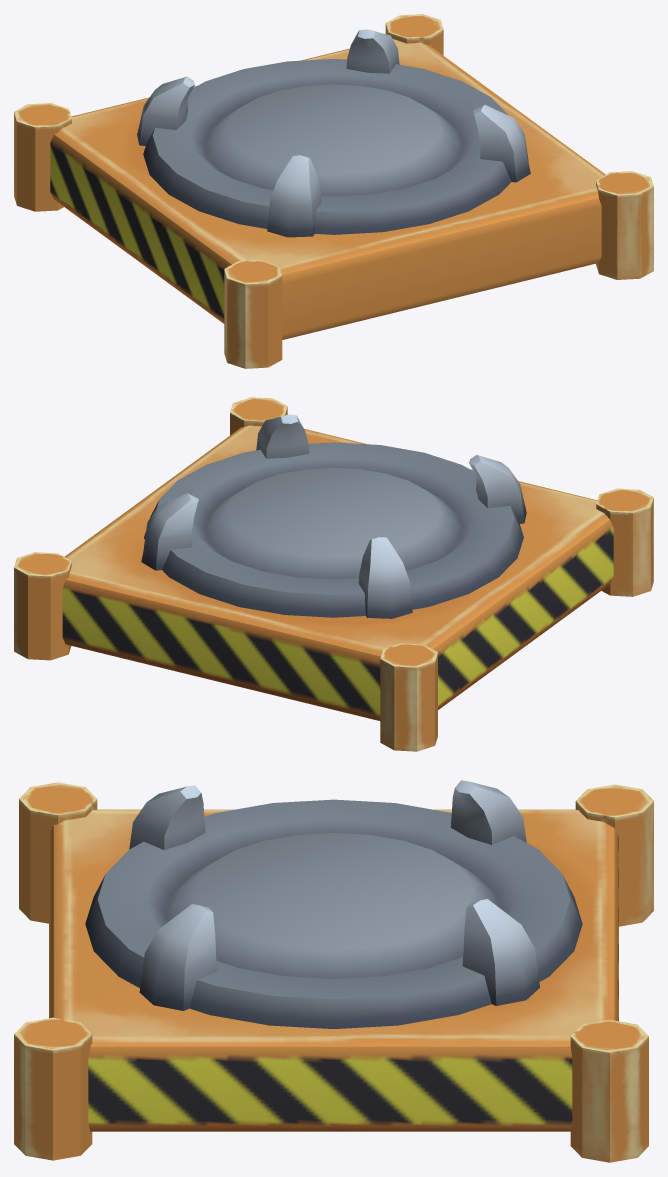
The model's file is Stove.fbx.
3 views of the same model, one above another, from view 1: azimuth 30°, elevation 25°; view 2: azimuth 150°, elevation 25°; view 3: azimuth 270°, elevation 25° (orthographic). The views are drawn at different scales.
Visible parts, largest first — view 1: stove; view 2: stove; view 3: stove.
Boxes of the visible parts, x1,y1,x2,y2 form: stove: (14, 14, 653, 368); stove: (14, 397, 653, 751); stove: (14, 780, 653, 1162).
Bounding box in the file's own units: 2.24 × 0.7114 × 2.24.
Materials: 1 (1 with a texture image).
